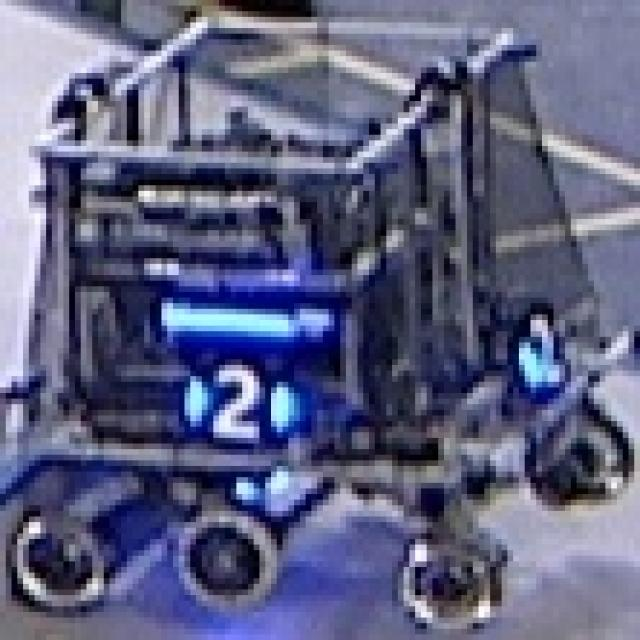B2: (179, 359, 294, 444)
